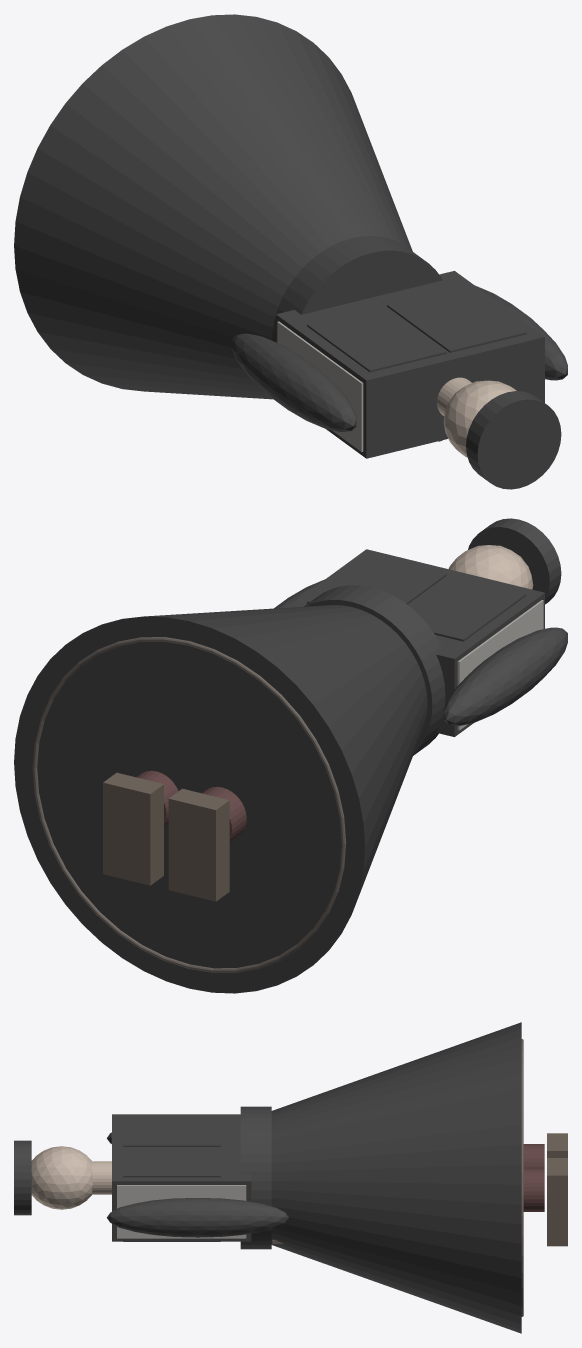
File: MASTER_036_STAGE3_DETAIL.glb
3 renders of one model, top to bottom at view 1: azimuth 30°, elevation 25°; view 2: azimuth 150°, elevation 25°; view 3: azimuth 270°, elevation 25°, orthographic. The views are drawn at different scales.
Visible parts, largest first — view 1: slot_lower_main__fund_i_gjatë, slot_upper_inner__këmishë, slot_waist__brez, slot_headwear__mbulesë_koke, slot_upper_inner_sleeve_L, slot_upper_outer__jelek/xhamadan_R, slot_upper_outer__jelek/xhamadan_L, mannequin_torso, mannequin_head, slot_upper_inner_sleeve_R; view 2: slot_lower_main__fund_i_gjatë, slot_footwear__opinga_L, slot_footwear__opinga_R, slot_upper_inner_sleeve_L, detail_skirt_hem, slot_waist__brez, slot_upper_inner__këmishë, slot_upper_outer__jelek/xhamadan_L, slot_headwear__mbulesë_koke, slot_upper_outer__jelek/xhamadan_R, mannequin_head, mannequin_torso (+2 smaller); view 3: slot_lower_main__fund_i_gjatë, slot_upper_inner_sleeve_R, slot_upper_inner__këmishë, mannequin_head, slot_waist__brez, slot_upper_outer__jelek/xhamadan_R, slot_upper_outer__jelek/xhamadan_L, mannequin_torso, slot_footwear__opinga_R, slot_headwear__mbulesë_koke, slot_legwear__çorape_R, detail_skirt_hem (+3 smaller).
Boxes of the visible parts, left/top/right/bottom form: slot_lower_main__fund_i_gjatë: left=14, top=14, right=412, bottom=399; slot_upper_inner__këmishë: left=276, top=271, right=544, bottom=458; slot_waist__brez: left=272, top=236, right=442, bottom=341; slot_headwear__mbulesë_koke: left=466, top=391, right=561, bottom=489; slot_upper_inner_sleeve_L: left=232, top=333, right=356, bottom=431; slot_upper_outer__jelek/xhamadan_R: left=387, top=286, right=526, bottom=352; slot_upper_outer__jelek/xhamadan_L: left=307, top=305, right=446, bottom=372; mannequin_torso: left=277, top=321, right=363, bottom=451; mannequin_head: left=443, top=380, right=516, bottom=457; slot_upper_inner_sleeve_R: left=475, top=285, right=567, bottom=380; slot_lower_main__fund_i_gjatë: left=14, top=605, right=427, bottom=993; slot_footwear__opinga_L: left=168, top=788, right=229, bottom=901; slot_footwear__opinga_R: left=103, top=772, right=163, bottom=885; slot_upper_inner_sleeve_L: left=443, top=627, right=567, bottom=725; detail_skirt_hem: left=32, top=637, right=346, bottom=972; slot_waist__brez: left=304, top=585, right=445, bottom=755; slot_upper_inner__këmishë: left=287, top=549, right=544, bottom=736; slot_upper_outer__jelek/xhamadan_L: left=408, top=575, right=526, bottom=641; slot_headwear__mbulesë_koke: left=468, top=518, right=561, bottom=604; slot_upper_outer__jelek/xhamadan_R: left=307, top=555, right=446, bottom=604; mannequin_head: left=448, top=545, right=533, bottom=589; mannequin_torso: left=457, top=600, right=543, bottom=730; slot_lower_main__fund_i_gjatë: left=271, top=1022, right=521, bottom=1333; slot_upper_inner_sleeve_R: left=107, top=1198, right=288, bottom=1237; slot_upper_inner__këmishë: left=112, top=1114, right=251, bottom=1241; mannequin_head: left=31, top=1146, right=92, bottom=1209; slot_waist__brez: left=240, top=1106, right=271, bottom=1249; slot_upper_outer__jelek/xhamadan_R: left=123, top=1147, right=220, bottom=1241; slot_upper_outer__jelek/xhamadan_L: left=123, top=1117, right=220, bottom=1146; mannequin_torso: left=117, top=1185, right=246, bottom=1238; slot_footwear__opinga_R: left=547, top=1158, right=567, bottom=1246; slot_headwear__mbulesë_koke: left=14, top=1140, right=31, bottom=1215; slot_legwear__çorape_R: left=523, top=1168, right=544, bottom=1211; detail_skirt_hem: left=521, top=1039, right=523, bottom=1316.
Bounding box in the file's own units: 0.9631 × 0.9631 × 1.71.
